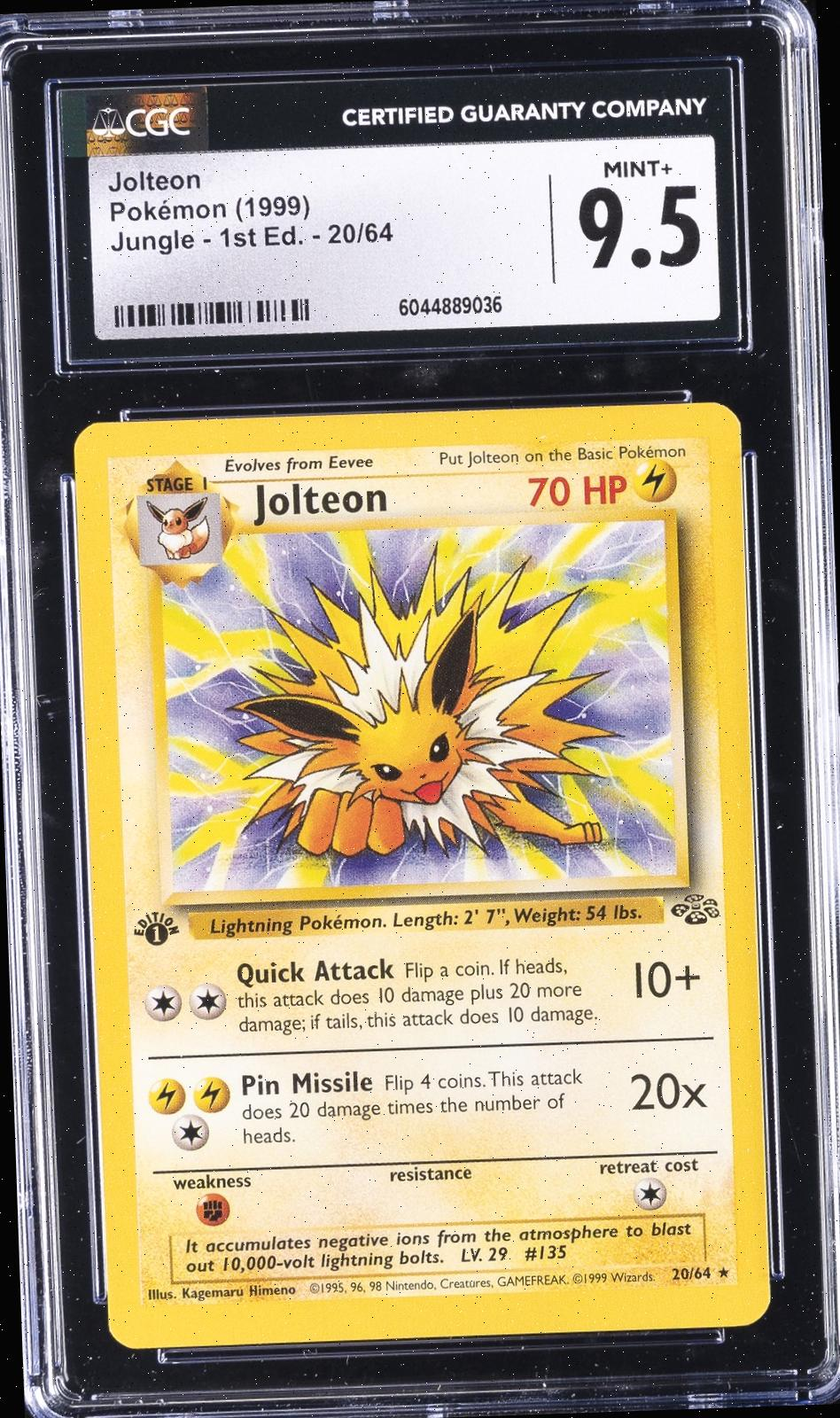card-2UtV: (73, 401, 772, 1349)
